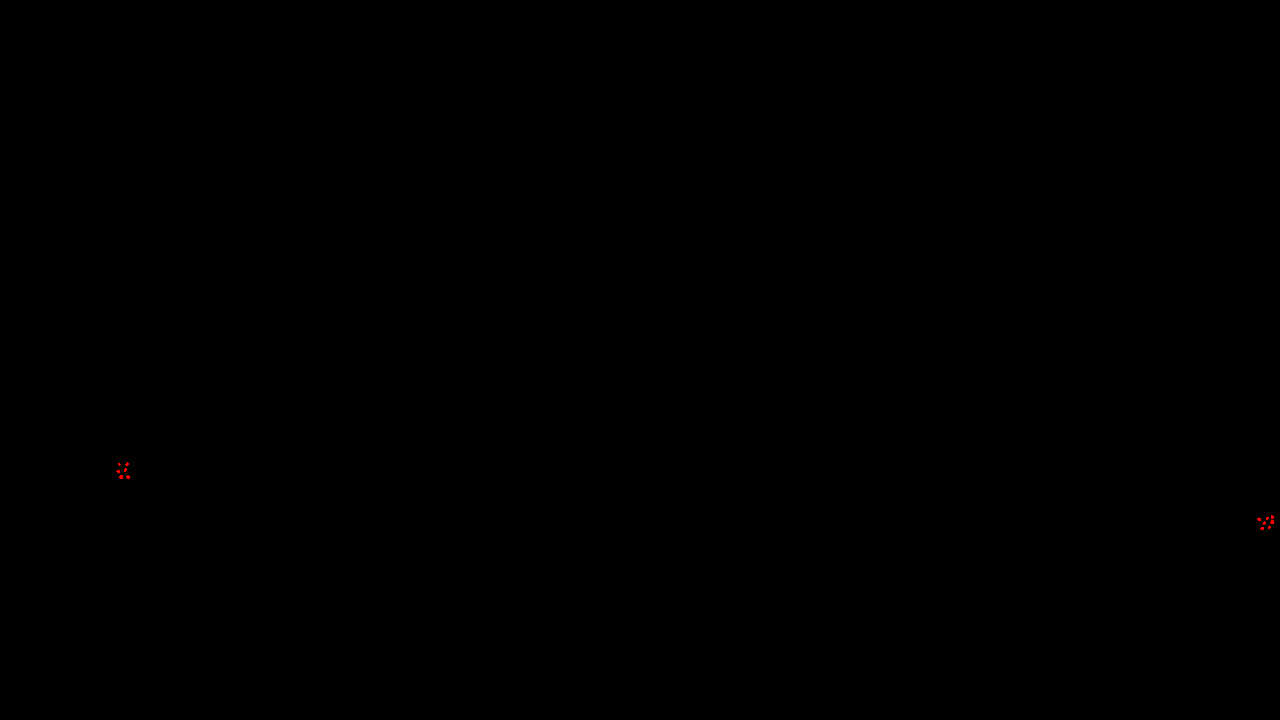Target: (125, 462, 129, 466), (119, 475, 123, 479), (126, 475, 130, 479), (1270, 520, 1274, 524), (124, 468, 127, 472), (116, 470, 120, 473), (1271, 515, 1274, 519), (1257, 518, 1261, 521), (1263, 521, 1266, 525), (1260, 527, 1264, 530), (118, 463, 121, 466), (1266, 517, 1269, 520), (1268, 526, 1271, 529)
